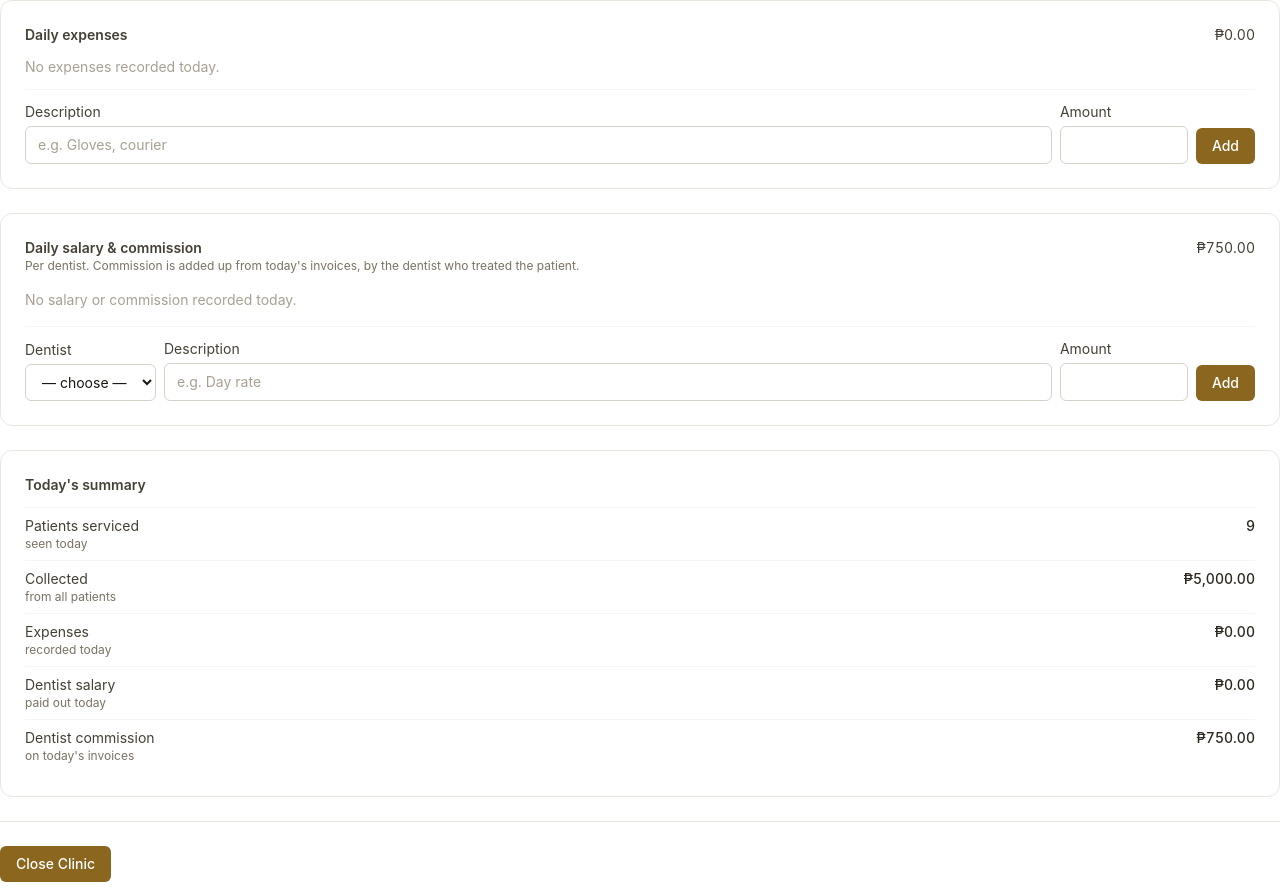
Test: DailyClosePanel › daily expenses › keeps a typed expense on screen when the save fails
Type "Gloves" into the field labelled "Description" below "No expenses recorded today." at (538, 145), box [25,126,1052,164]
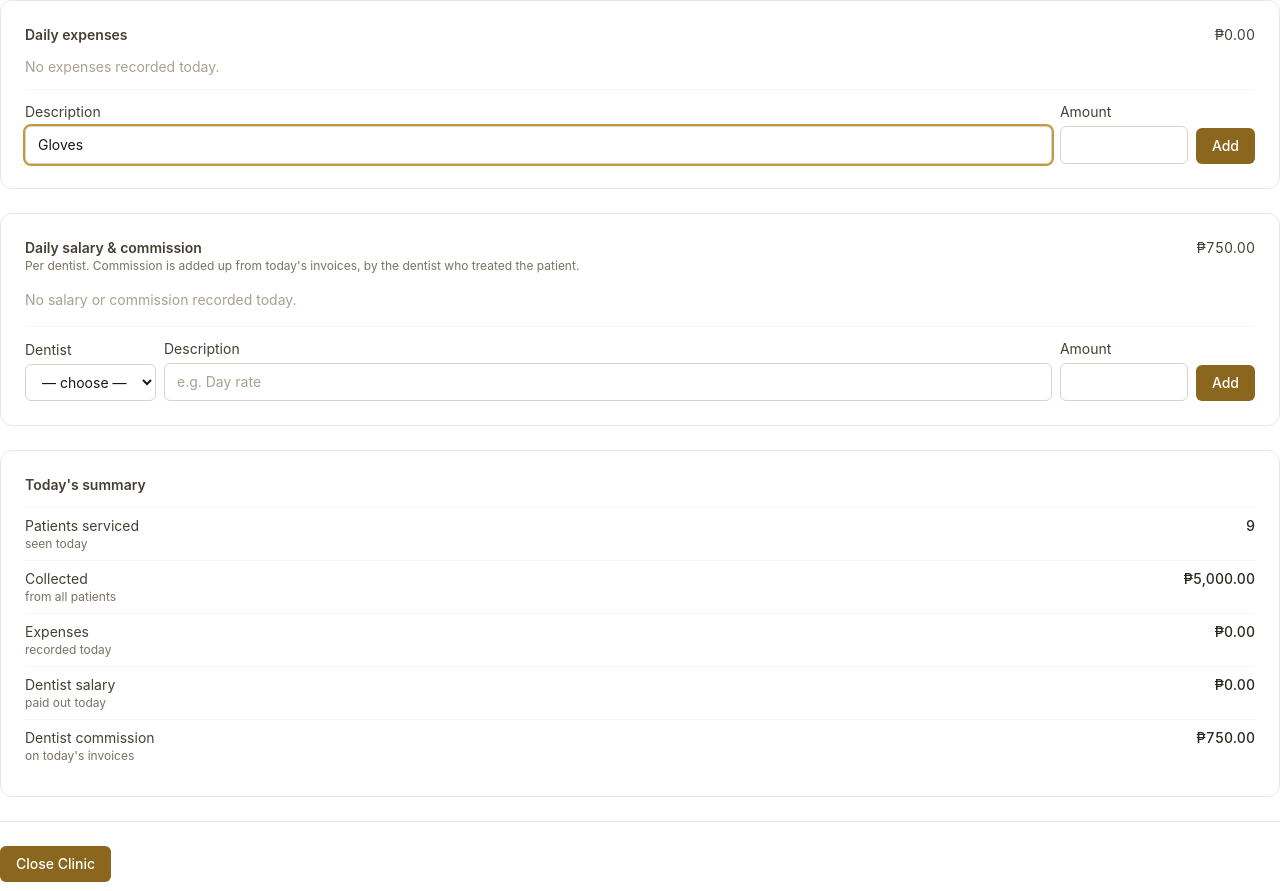
Type "1200" into the 1st number field labelled "Amount" at (1124, 145), box [1060,126,1188,164]
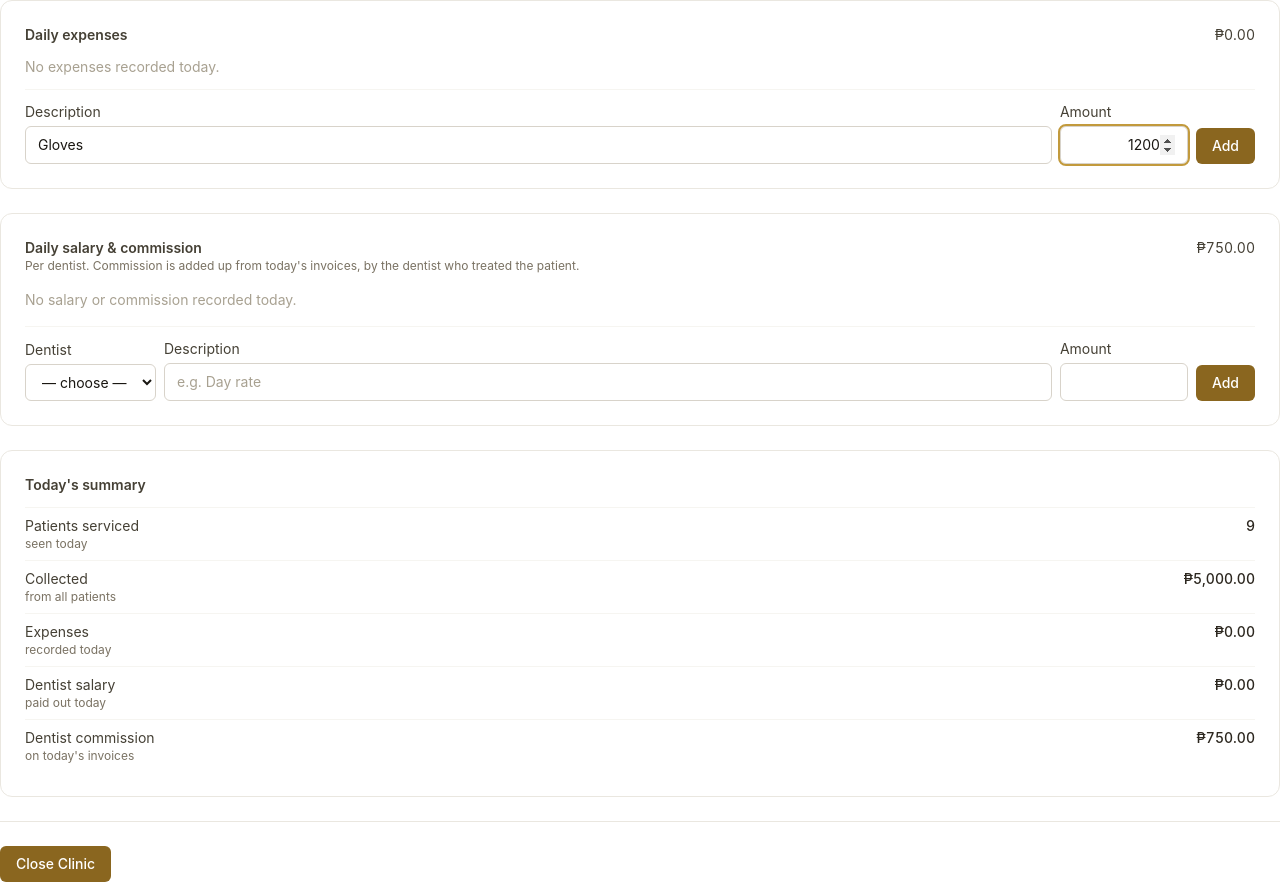
Click the 1st button "Add" at (1225, 146), box [1196,128,1255,164]
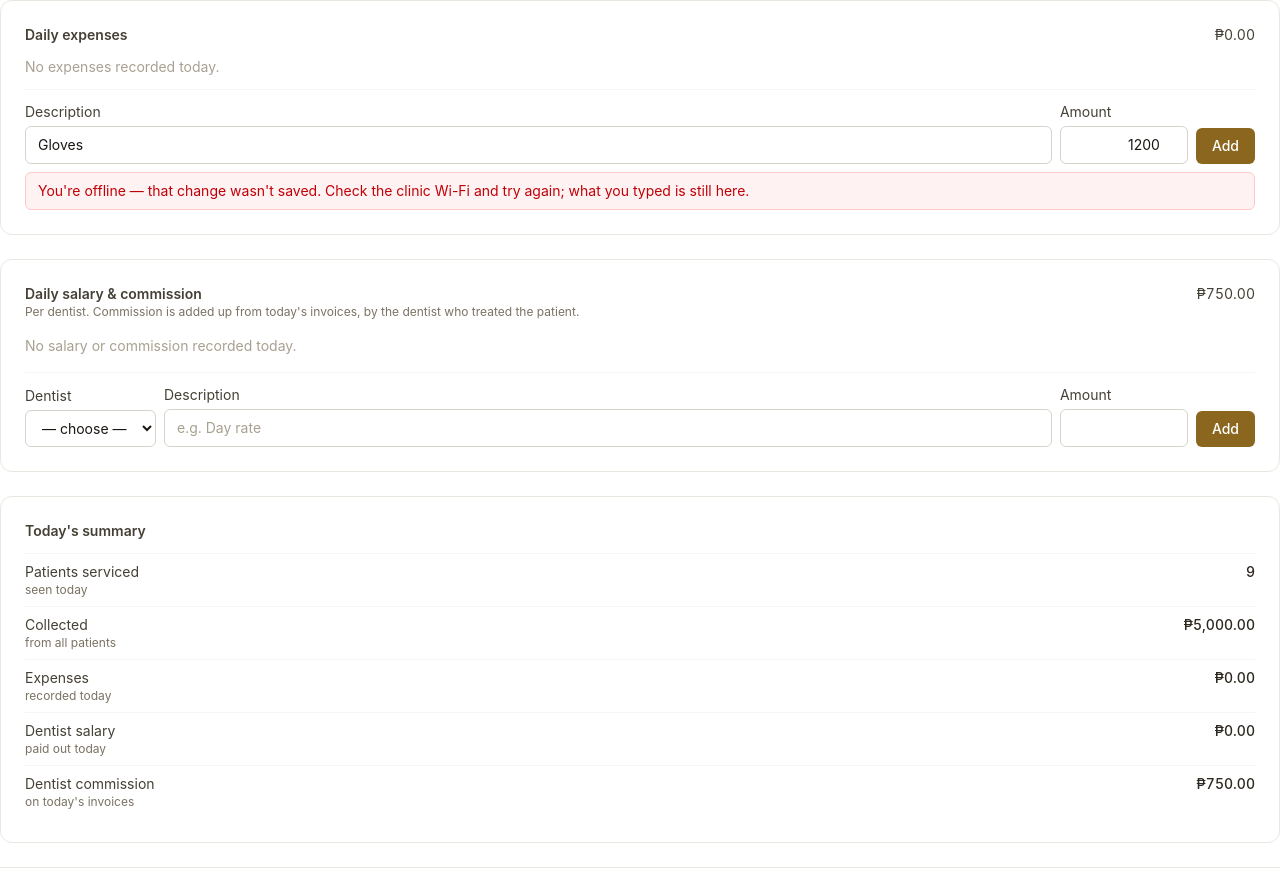
Result: the message shows "You're offline" at [38,182,749,199]
